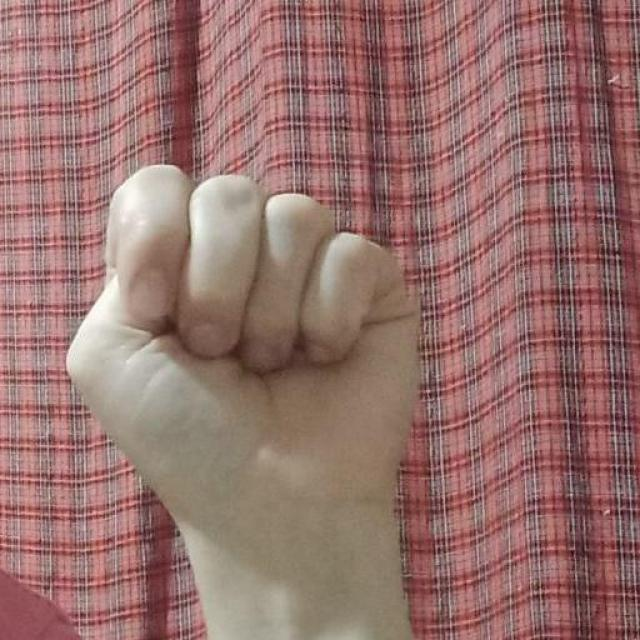hand: (64, 161, 424, 500)
